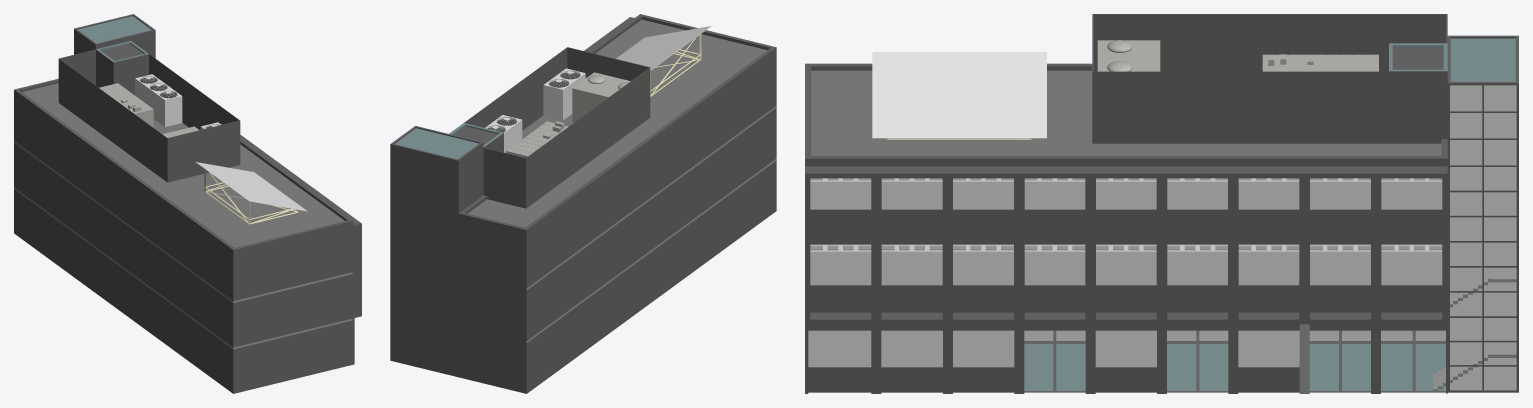
The picture shows the model from 3 angles, left to right: view 1: azimuth 30°, elevation 25°; view 2: azimuth 150°, elevation 25°; view 3: azimuth 270°, elevation 25°; orthographic projection. The views are drawn at different scales.
Visible parts, largest first — view 1: main hall.4th.001, 立方体.021, 立方体.022, solar panel, stair.004, 円柱.009, 立方体.020, 立方体, 円柱.010, 円柱.011; view 2: main hall.4th.001, 立方体.021, solar panel, 立方体.005, stair.004, 円柱.008, 立方体.020, 立方体.022, 立方体, 円柱.009; view 3: main hall.4th.001, 立方体.021, solar panel, metal net.001, metal net, 立方体.020, 立方体.005, 立方体.022, stair.004.
Part boxes in pixels (box(x1,y1,x2,y2)): main hall.4th.001: box(14, 14, 361, 393); 立方体.021: box(58, 41, 240, 182); 立方体.022: box(96, 41, 148, 95); solar panel: box(195, 162, 307, 211); stair.004: box(14, 141, 352, 349); 円柱.009: box(155, 89, 182, 126); 立方体.020: box(99, 83, 153, 127); 立方体: box(204, 169, 298, 224); 円柱.010: box(145, 81, 171, 119); 円柱.011: box(135, 74, 161, 102); main hall.4th.001: box(390, 14, 776, 393); 立方体.021: box(449, 47, 650, 208); solar panel: box(616, 26, 711, 70); 立方体.005: box(572, 72, 630, 122); stair.004: box(526, 105, 776, 342); 円柱.008: box(543, 77, 574, 120); 立方体.020: box(506, 121, 568, 157); 立方体.022: box(449, 123, 503, 152); 立方体: box(650, 34, 701, 96); 円柱.009: box(492, 115, 522, 147); main hall.4th.001: box(805, 35, 1518, 393); 立方体.021: box(1092, 14, 1447, 143); solar panel: box(872, 52, 1046, 138); metal net.001: box(810, 244, 1442, 252); metal net: box(810, 178, 1442, 182); 立方体.020: box(1262, 54, 1378, 71); 立方体.005: box(1097, 40, 1160, 71); 立方体.022: box(1389, 43, 1447, 71); stair.004: box(1299, 324, 1309, 392).
Bounding box in the file's own units: 29.03 × 41.03 × 85.78.
